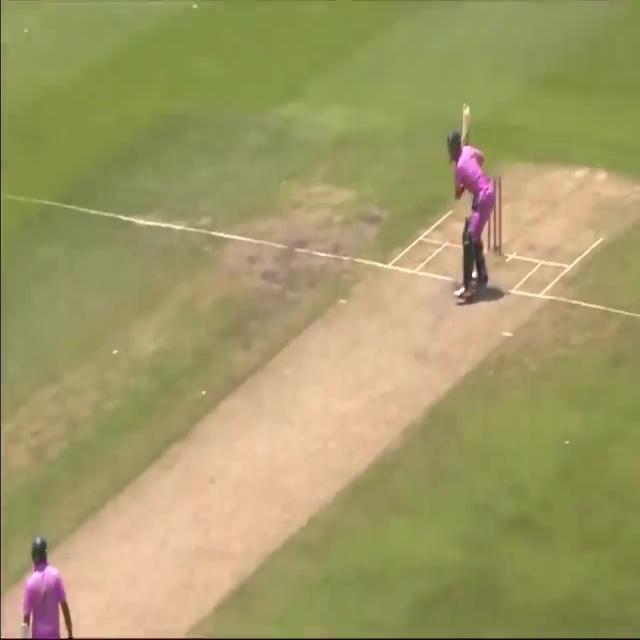Ball: (446, 101, 513, 295), (18, 533, 74, 640)
